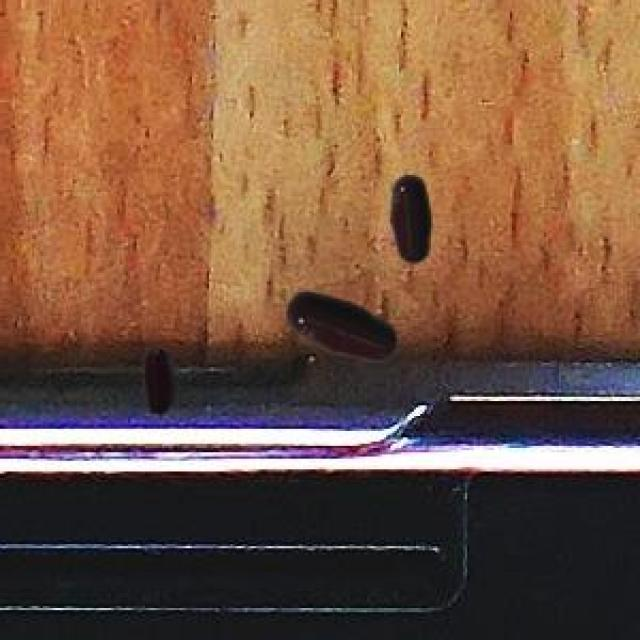DayZinc: (282, 281, 406, 383), (377, 160, 440, 275), (127, 339, 188, 422)
